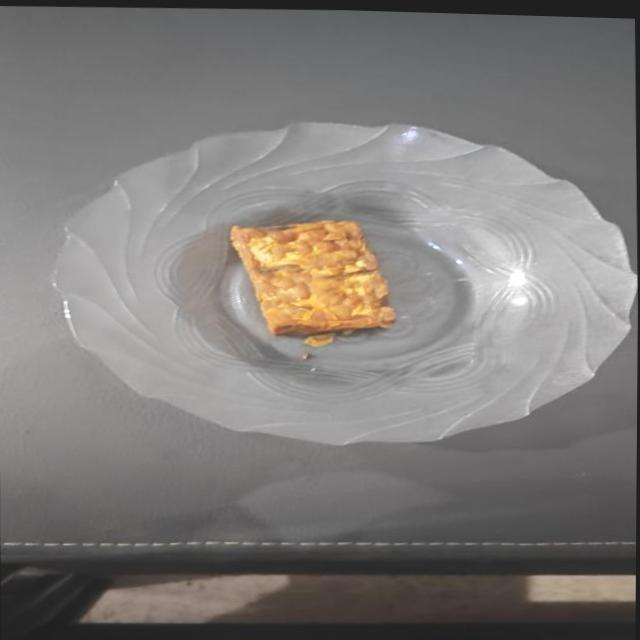tempe_goreng: (230, 220, 395, 346)
